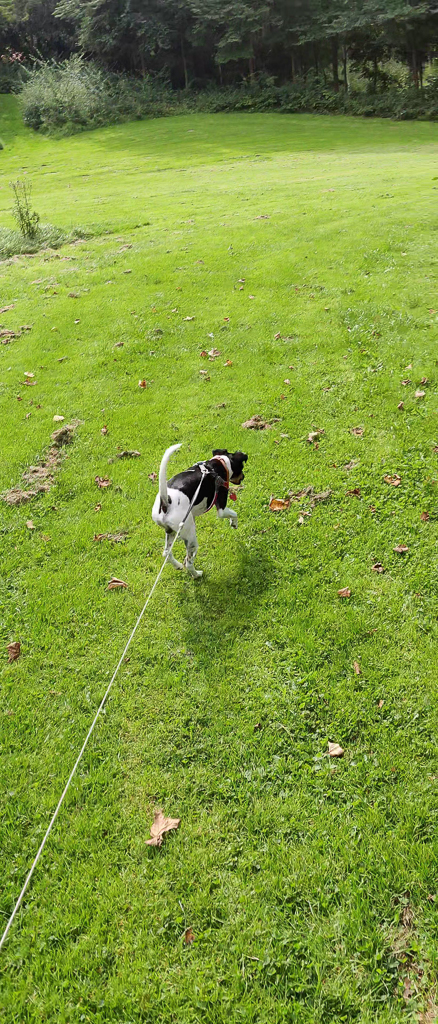Dog: (143, 433, 261, 588)
